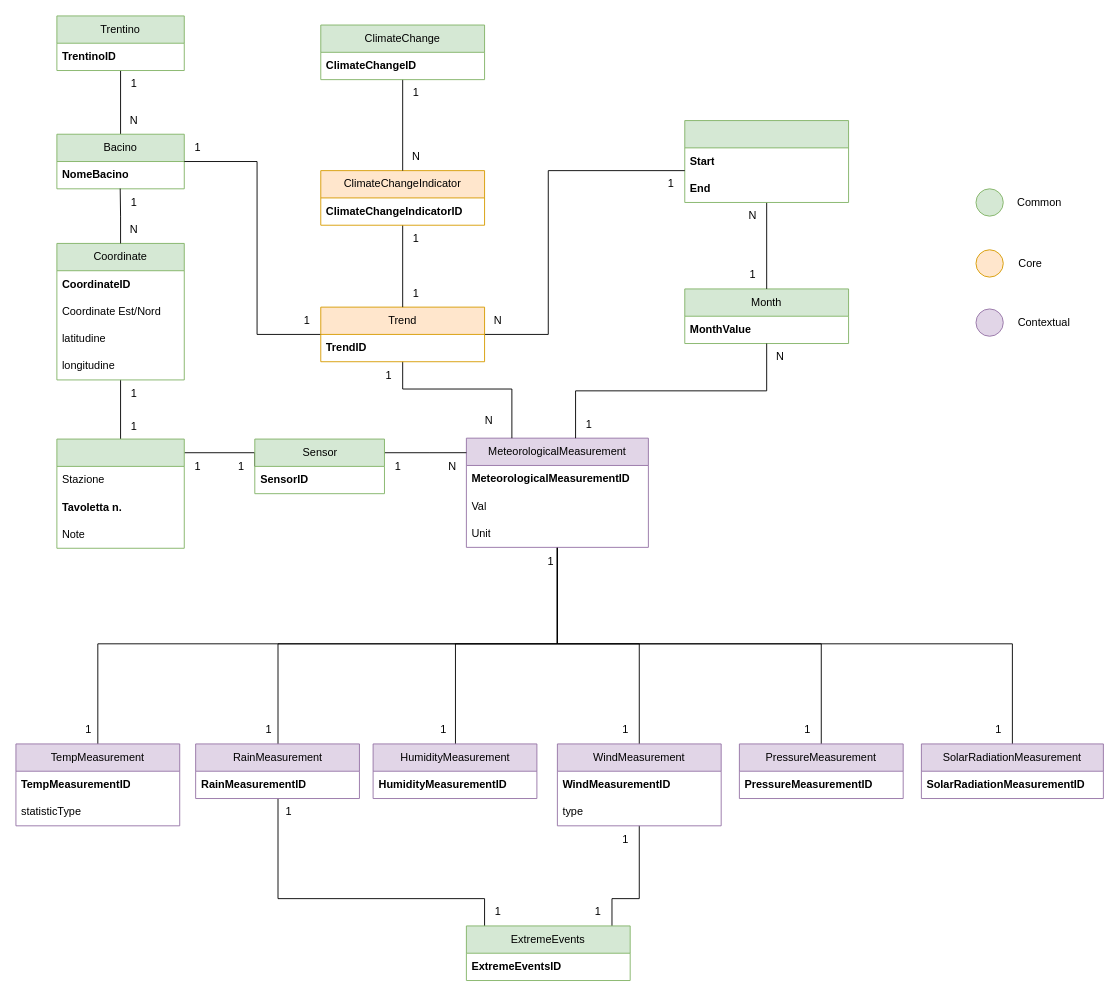
This 1119x996 diagram has some shape labels left out. Here are the shapes that lost their labels. From the top down, the box of each, then its label:
(684, 120, 849, 202): TimePeriod
(56, 438, 184, 548): MetereologicalFacility
